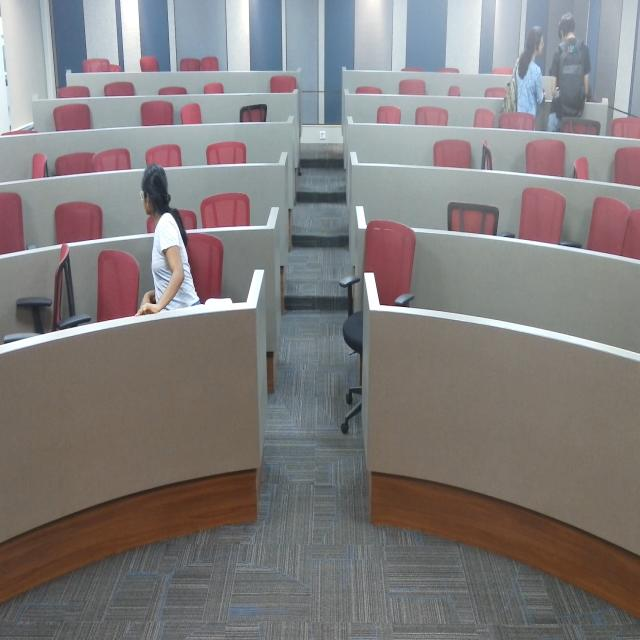cheating: (137, 154, 203, 350)
